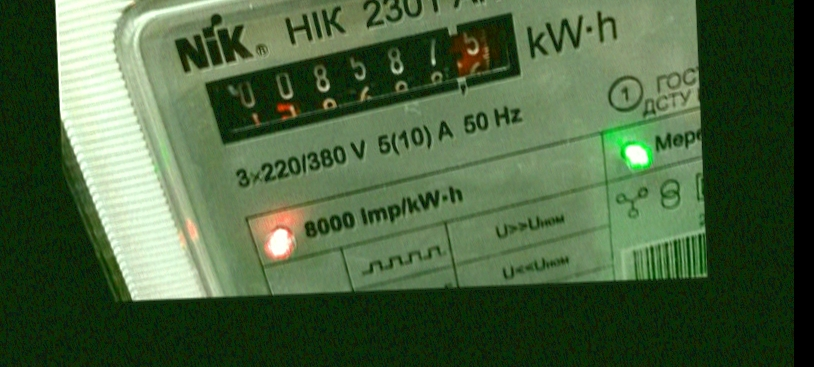0: (271, 66, 298, 101), (233, 76, 260, 109)
5: (346, 50, 370, 82), (459, 23, 482, 55)
6: (466, 58, 484, 76)
7: (421, 34, 444, 69)
8: (310, 61, 335, 94), (383, 43, 407, 76)
screen: (194, 10, 546, 146)
